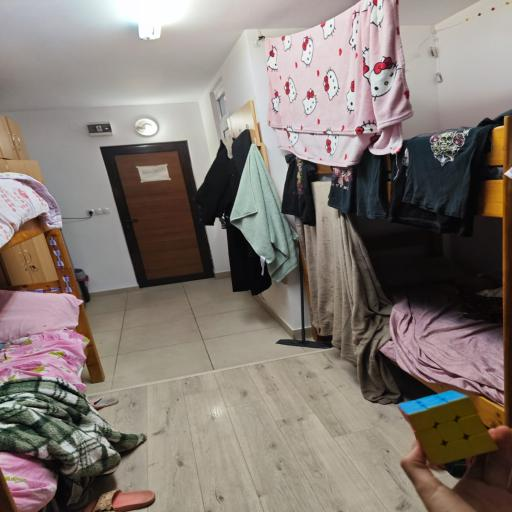Rubiks Cube: (390, 388, 505, 469)
